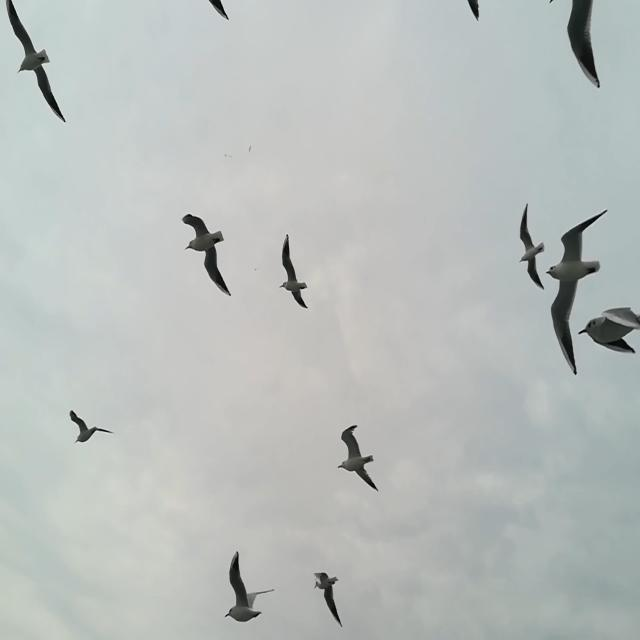bird: (545, 208, 608, 375), (5, 0, 65, 121), (548, 0, 601, 89), (181, 214, 231, 298), (226, 550, 274, 623), (577, 305, 640, 356), (338, 425, 379, 494), (519, 203, 545, 291), (280, 234, 310, 309), (311, 570, 343, 628), (69, 409, 114, 445), (208, 0, 228, 20), (466, 0, 480, 21), (247, 144, 253, 154)
